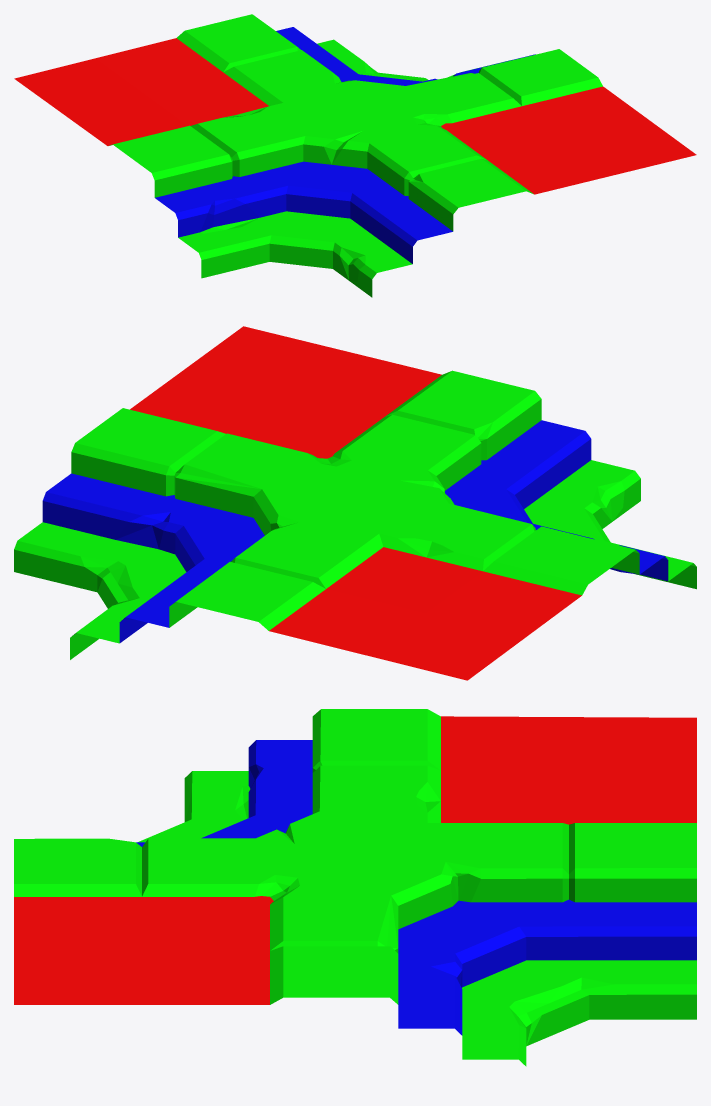
The model's file is dungeon_stairs_mergedCorner.fbx.
3 views of the same model, one above another, from view 1: azimuth 30°, elevation 25°; view 2: azimuth 150°, elevation 25°; view 3: azimuth 270°, elevation 25° (orthographic). The views are drawn at different scales.
Visible parts, largest first — view 1: dugeon_stairs_mergedCorner; view 2: dugeon_stairs_mergedCorner; view 3: dugeon_stairs_mergedCorner.
Part boxes in pixels (bbox=[...]): dugeon_stairs_mergedCorner: bbox=[14, 14, 696, 297]; dugeon_stairs_mergedCorner: bbox=[14, 326, 696, 680]; dugeon_stairs_mergedCorner: bbox=[14, 709, 696, 1066].
Bounding box in the file's own units: 200 × 200 × 30.41.
